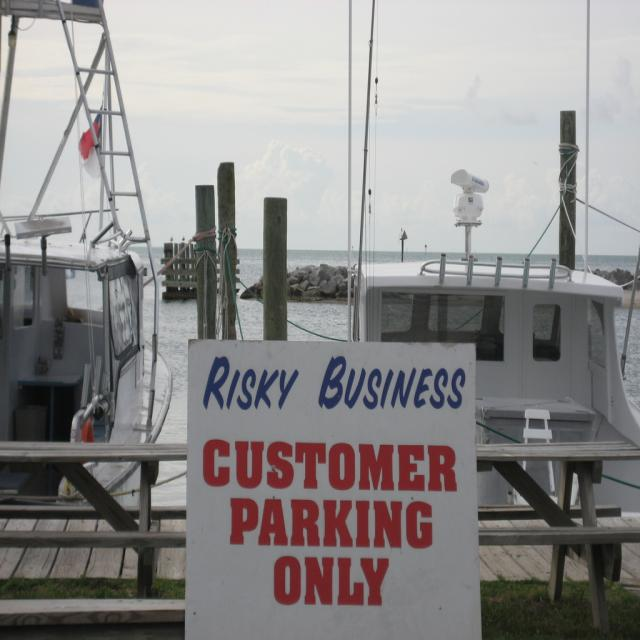Boat: (344, 0, 640, 514), (0, 0, 174, 506)
